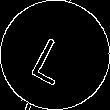L_NE: (30, 25, 80, 85)
